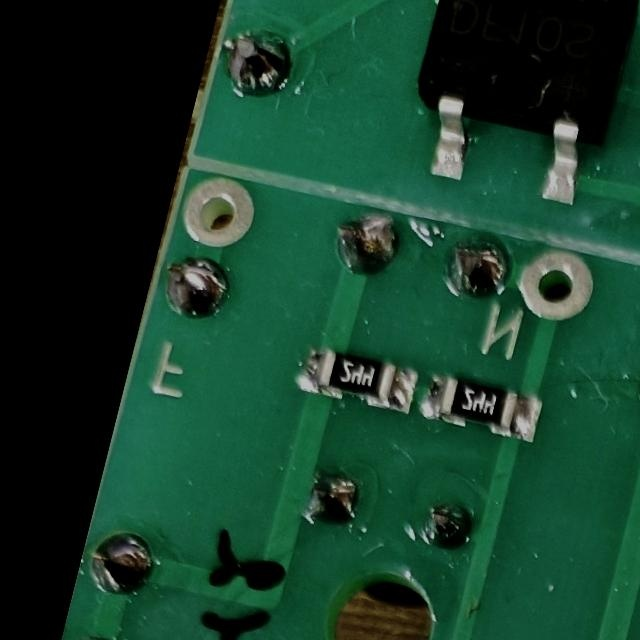chip-resistor: (416, 366, 548, 449), (289, 337, 419, 419)
ic: (390, 0, 640, 221)
